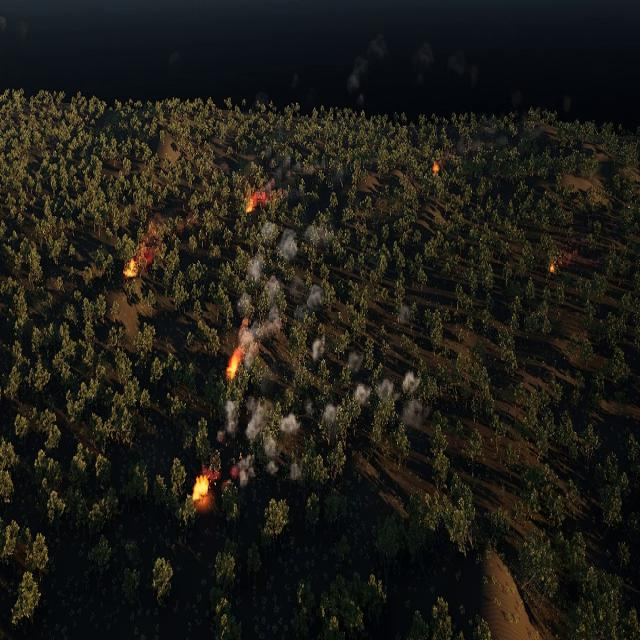fire: (247, 188, 267, 213), (194, 475, 211, 502), (228, 349, 242, 376), (125, 261, 139, 279), (432, 163, 439, 176), (550, 264, 555, 273)
smoke: (235, 222, 324, 356), (217, 390, 343, 483), (349, 362, 427, 432), (409, 41, 477, 88), (344, 33, 386, 107), (448, 130, 511, 162), (263, 157, 298, 202), (137, 218, 163, 267), (279, 229, 298, 260), (556, 248, 578, 268), (346, 350, 364, 371), (400, 299, 416, 322)
